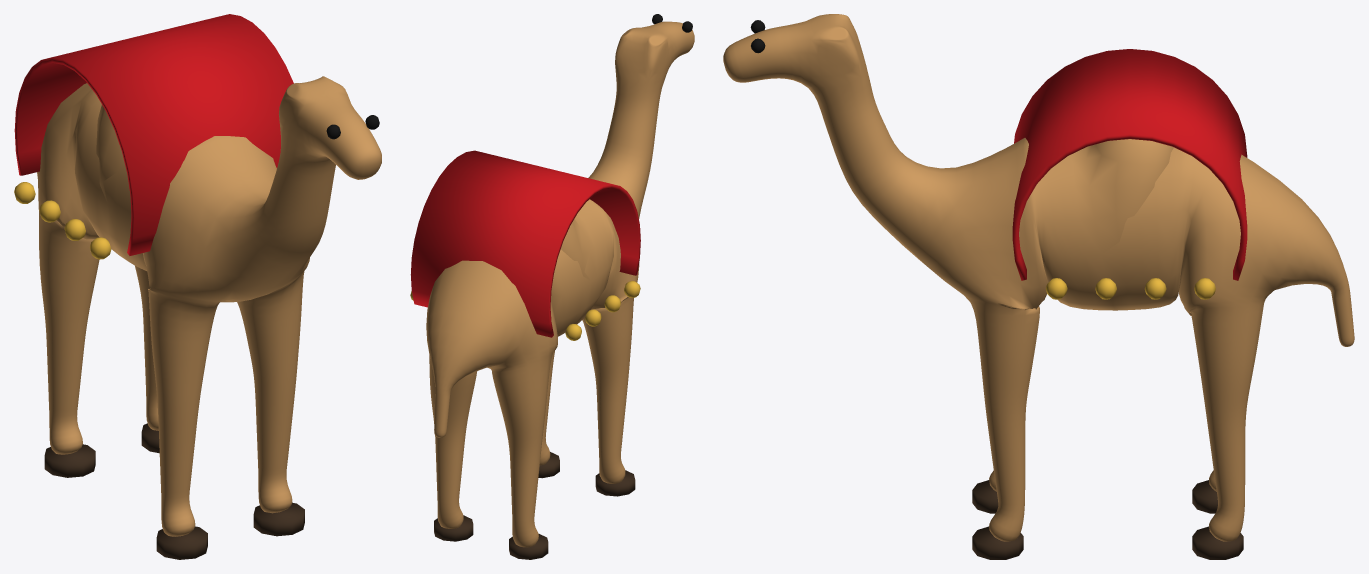
File: camel.glb
3 renders of one model, left to right at view 1: azimuth 30°, elevation 25°; view 2: azimuth 150°, elevation 25°; view 3: azimuth 270°, elevation 25°, orthographic. The views are drawn at different scales.
Parts seen in each view (by area): view 1: Camel, Blanket, Cylinder.003, Cylinder.002, Cylinder; view 2: Camel, Blanket, Cylinder.002, Cylinder.001, Cylinder.003, Cylinder; view 3: Camel, Blanket, Cylinder, Cylinder.001.
Part boxes in pixels (box(x1,y1,x2,y2)): Camel: box(37, 76, 381, 536); Blanket: box(14, 14, 293, 255); Cylinder.003: box(44, 444, 95, 477); Cylinder.002: box(156, 526, 207, 559); Cylinder: box(253, 502, 304, 536); Camel: box(426, 21, 694, 547); Blanket: box(410, 150, 640, 337); Cylinder.002: box(595, 470, 635, 496); Cylinder.001: box(434, 515, 473, 541); Cylinder.003: box(509, 534, 548, 559); Cylinder: box(538, 452, 559, 478); Camel: box(723, 14, 1354, 541); Blanket: box(1012, 49, 1247, 280); Cylinder: box(972, 526, 1023, 559); Cylinder.001: box(1192, 526, 1243, 559).
Size of the model in its own units: 1.36 by 3.05 by 3.44.
